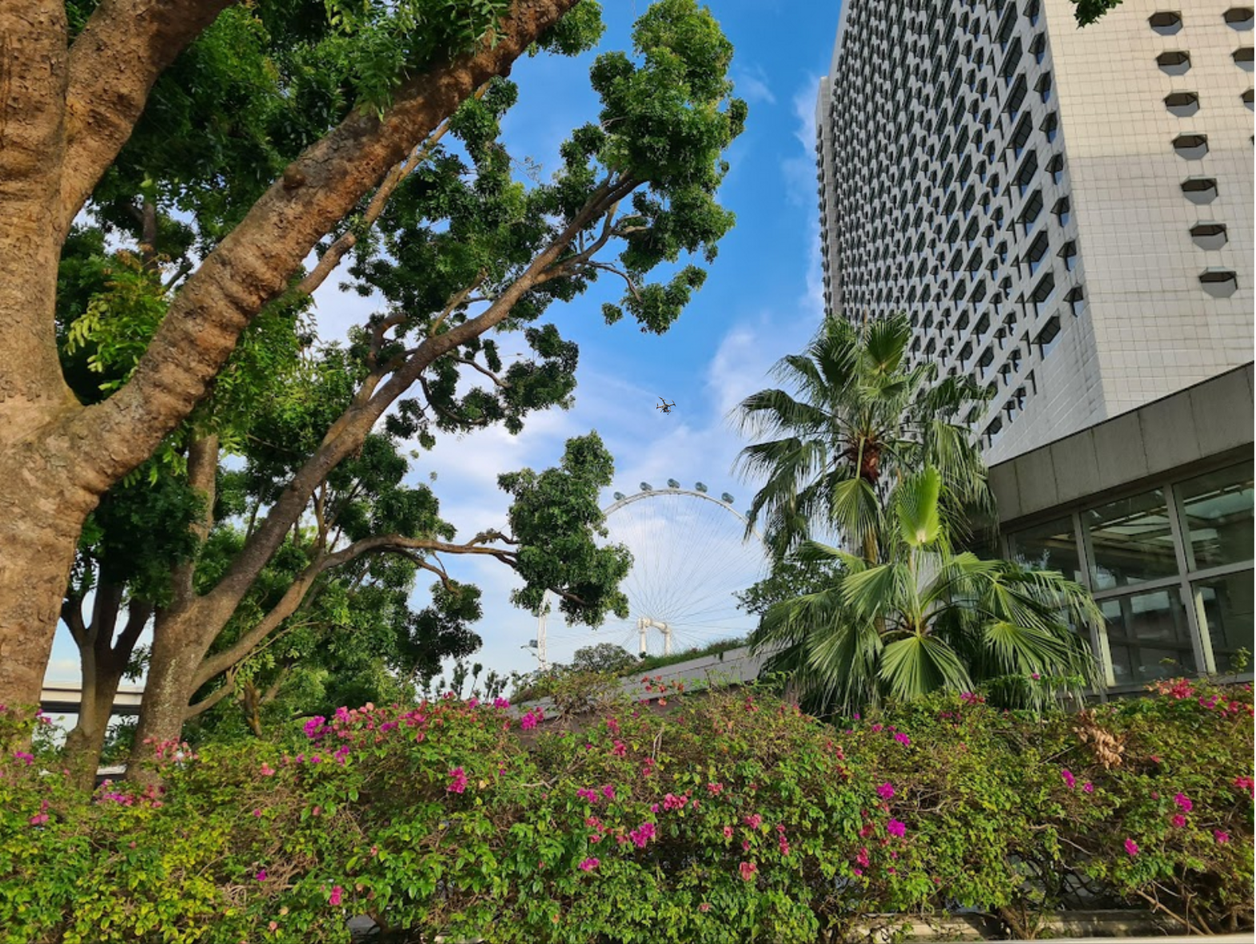drone_other: (655, 395, 677, 416)
